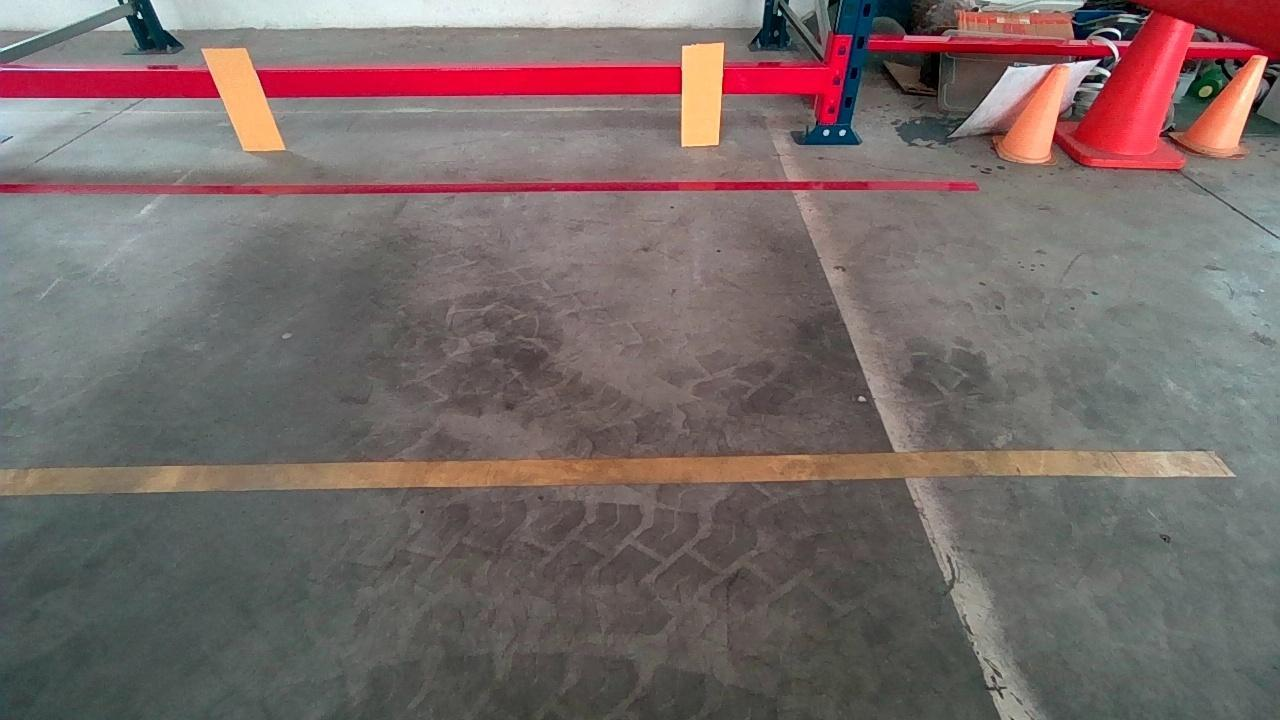h_rack: (4, 56, 823, 102)
orange_strip: (202, 46, 285, 150), (681, 44, 723, 143)
red_line: (5, 177, 973, 196)
yellow_line: (3, 449, 1225, 504)
